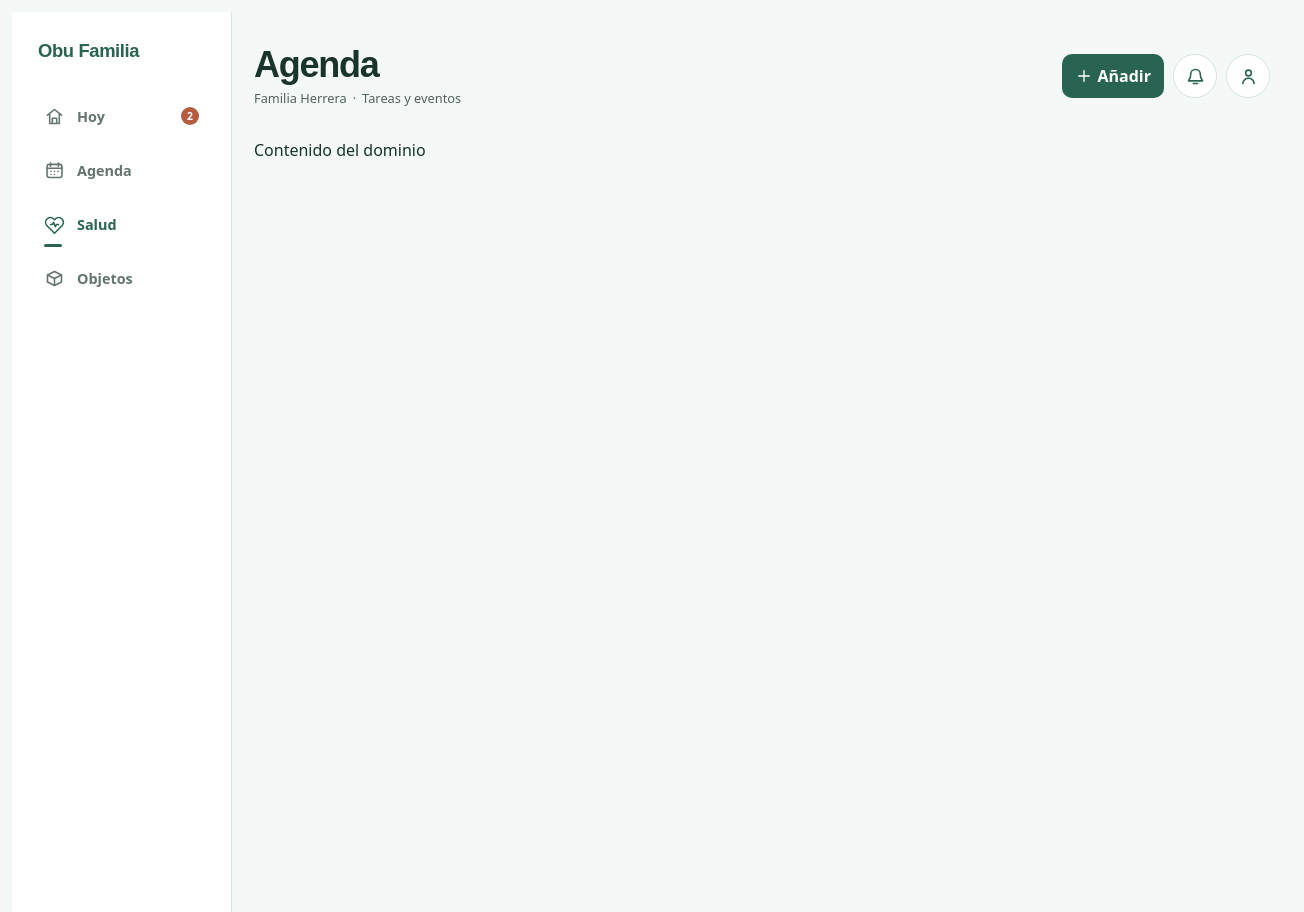
Test case: AppShell › mantiene un solo menú de cabecera abierto
Click the button "Añadir": [1113, 76] box [1062,54,1164,98]
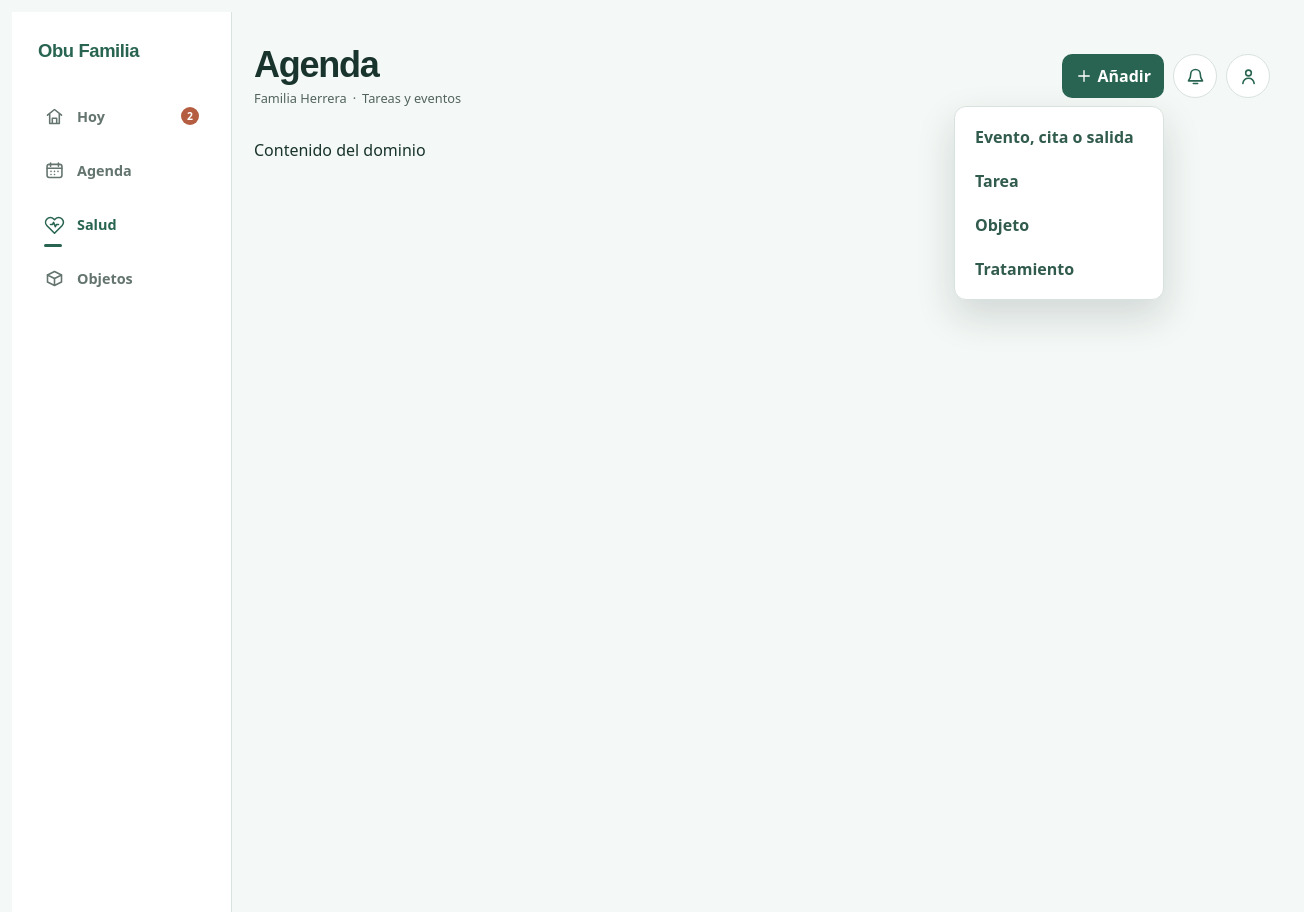
Click the button named "Abrir menú de familia": [1248, 76] box [1226,54,1270,98]
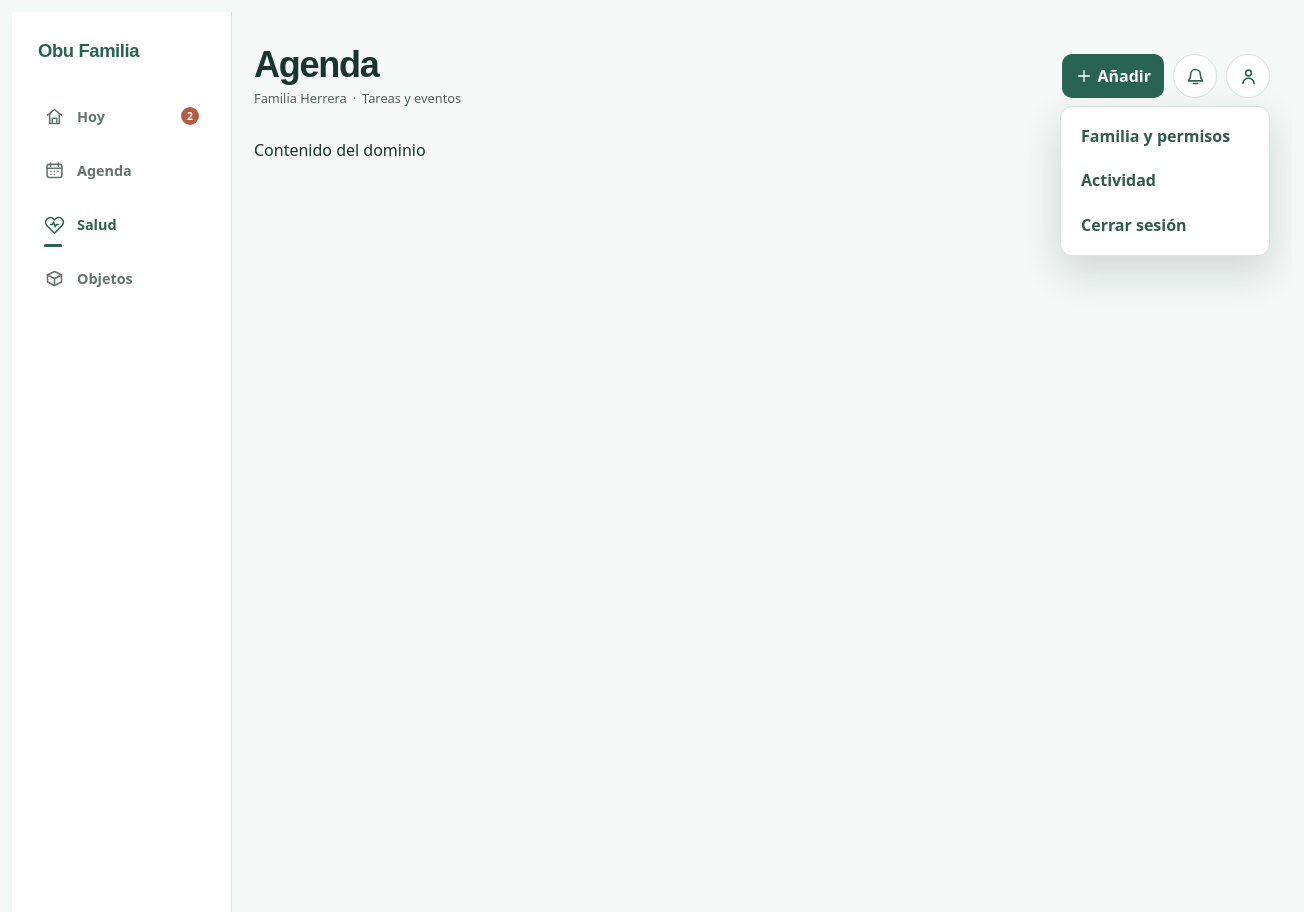
Result: the number of elements with class "menu-desplegable__panel" is 1 at [1060,106,1270,256]
